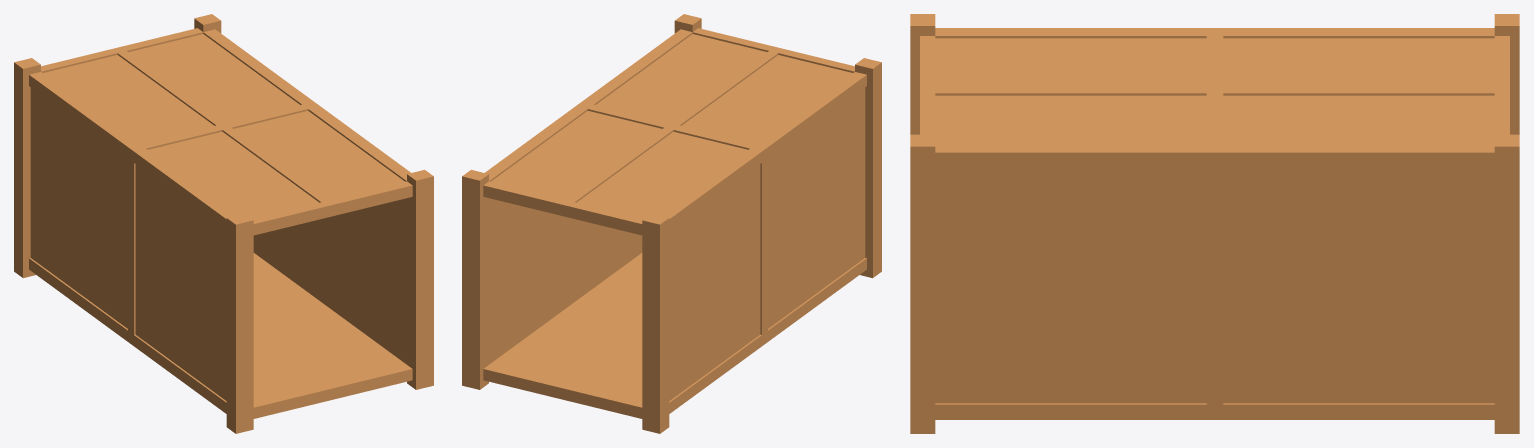
File: Open_Container.fbx
3 renders of one model, left to right at view 1: azimuth 30°, elevation 25°; view 2: azimuth 150°, elevation 25°; view 3: azimuth 270°, elevation 25°, orthographic. The views are drawn at different scales.
Parts seen in each view (by area): view 1: ContainerOPEN, ContainerOPEN._GroundLayer; view 2: ContainerOPEN, ContainerOPEN._GroundLayer; view 3: ContainerOPEN.
Part boxes in pixels (bbox=[...]): ContainerOPEN: bbox=[14, 14, 433, 433]; ContainerOPEN._GroundLayer: bbox=[253, 253, 411, 407]; ContainerOPEN: bbox=[462, 14, 881, 433]; ContainerOPEN._GroundLayer: bbox=[484, 253, 642, 407]; ContainerOPEN: bbox=[910, 14, 1519, 433].
Bounding box in the file's own units: 3.19 × 3.22 × 6.19.
